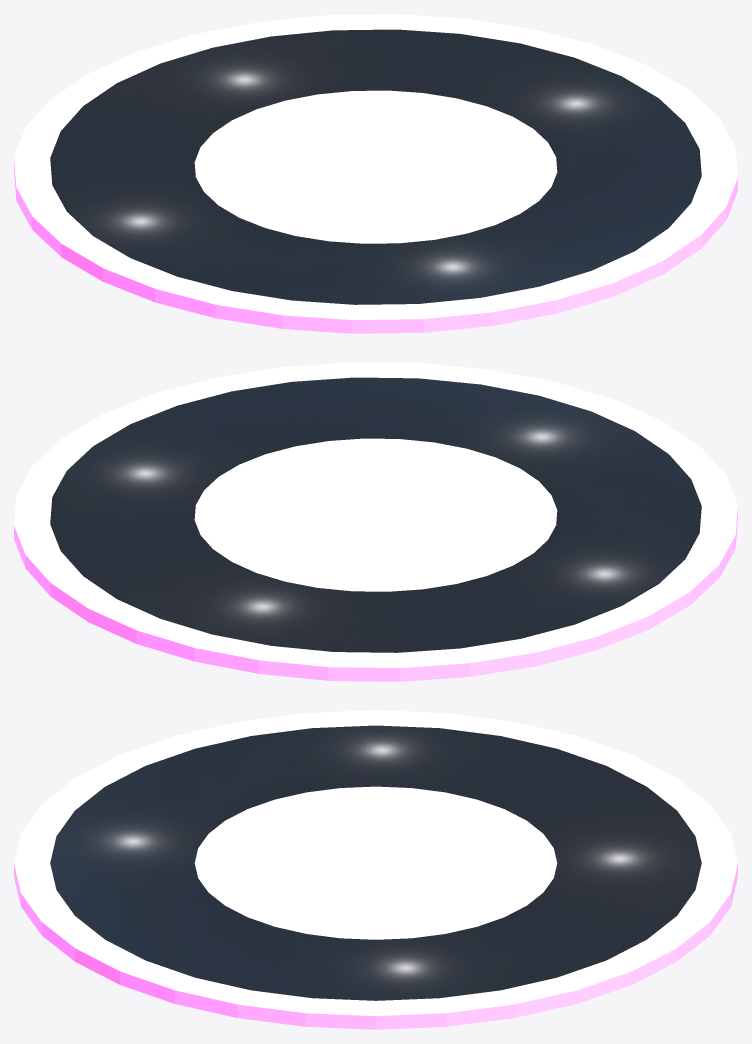
The model's file is conpany182.gltf.
3 views of the same model, one above another, from view 1: azimuth 30°, elevation 25°; view 2: azimuth 150°, elevation 25°; view 3: azimuth 270°, elevation 25° (orthographic).
Parts seen in each view (by area): view 1: Plane008001_1, Plane008001, Plane008001_2; view 2: Plane008001_1, Plane008001, Plane008001_2; view 3: Plane008001_1, Plane008001, Plane008001_2.
Part boxes in pixels (x1=…): Plane008001_1: x1=50, y1=29, x2=701, y2=304; Plane008001: x1=14, y1=14, x2=737, y2=319; Plane008001_2: x1=14, y1=29, x2=737, y2=333; Plane008001_1: x1=50, y1=377, x2=701, y2=652; Plane008001: x1=14, y1=362, x2=737, y2=667; Plane008001_2: x1=14, y1=377, x2=737, y2=681; Plane008001_1: x1=50, y1=725, x2=701, y2=1000; Plane008001: x1=14, y1=710, x2=737, y2=1015; Plane008001_2: x1=14, y1=864, x2=737, y2=1029.
Bounding box in the file's own units: 96.46 × 2 × 96.46.
Materials: 3 (1 with a texture image).
